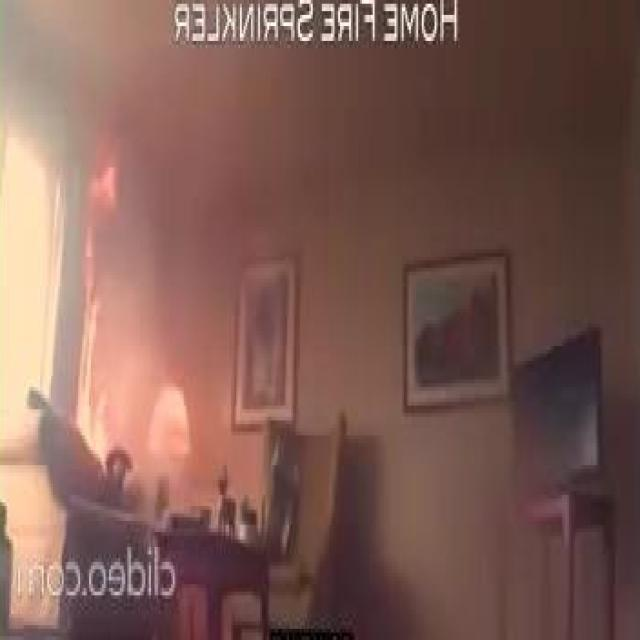smoke: (74, 158, 124, 460)
